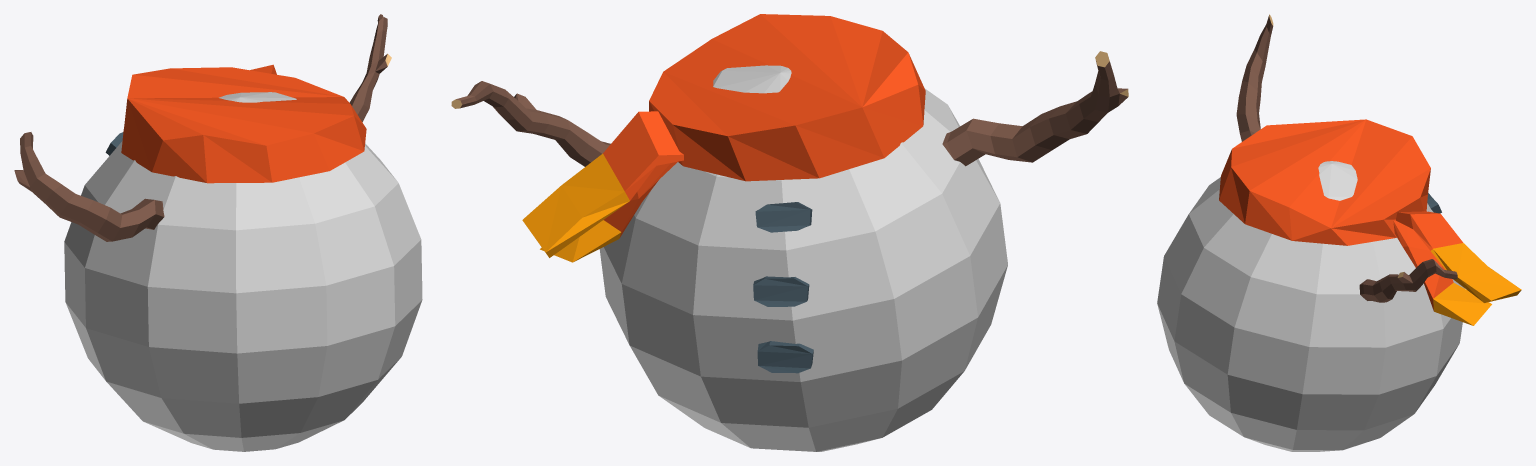
Rendered from lowerbody.glb.
The picture shows the model from 3 angles, left to right: view 1: azimuth 30°, elevation 25°; view 2: azimuth 150°, elevation 25°; view 3: azimuth 270°, elevation 25°; orthographic projection. The views are drawn at different scales.
Visible parts, largest first — view 1: group1820762859, group1892130115, group18611084, group921956220; view 2: group1820762859, group1892130115, group1104647169, group18611084, group921956220, group1116571812, group1498399376, group2007613039, group189997772; view 3: group1820762859, group1892130115, group1104647169, group1116571812, group18611084, group921956220.
Part boxes in pixels (box(x1,y1,x2,y2)): group1820762859: box(64, 92, 422, 451); group1892130115: box(121, 67, 366, 183); group18611084: box(14, 132, 164, 241); group921956220: box(349, 14, 391, 121); group1820762859: box(599, 65, 1007, 451); group1892130115: box(649, 14, 925, 181); group1104647169: box(522, 111, 683, 257); group18611084: box(942, 51, 1128, 166); group921956220: box(451, 81, 610, 166); group1116571812: box(540, 161, 677, 262); group1498399376: box(757, 341, 813, 373); group2007613039: box(753, 276, 809, 306); group189997772: box(755, 202, 812, 232); group1820762859: box(1157, 161, 1464, 451); group1892130115: box(1219, 119, 1430, 245); group1104647169: box(1396, 211, 1521, 302); group1116571812: box(1393, 220, 1491, 325); group18611084: box(1236, 14, 1273, 141); group921956220: box(1359, 259, 1457, 302).
Bounding box in the file's own units: 0.7684 × 0.5747 × 0.5879.
